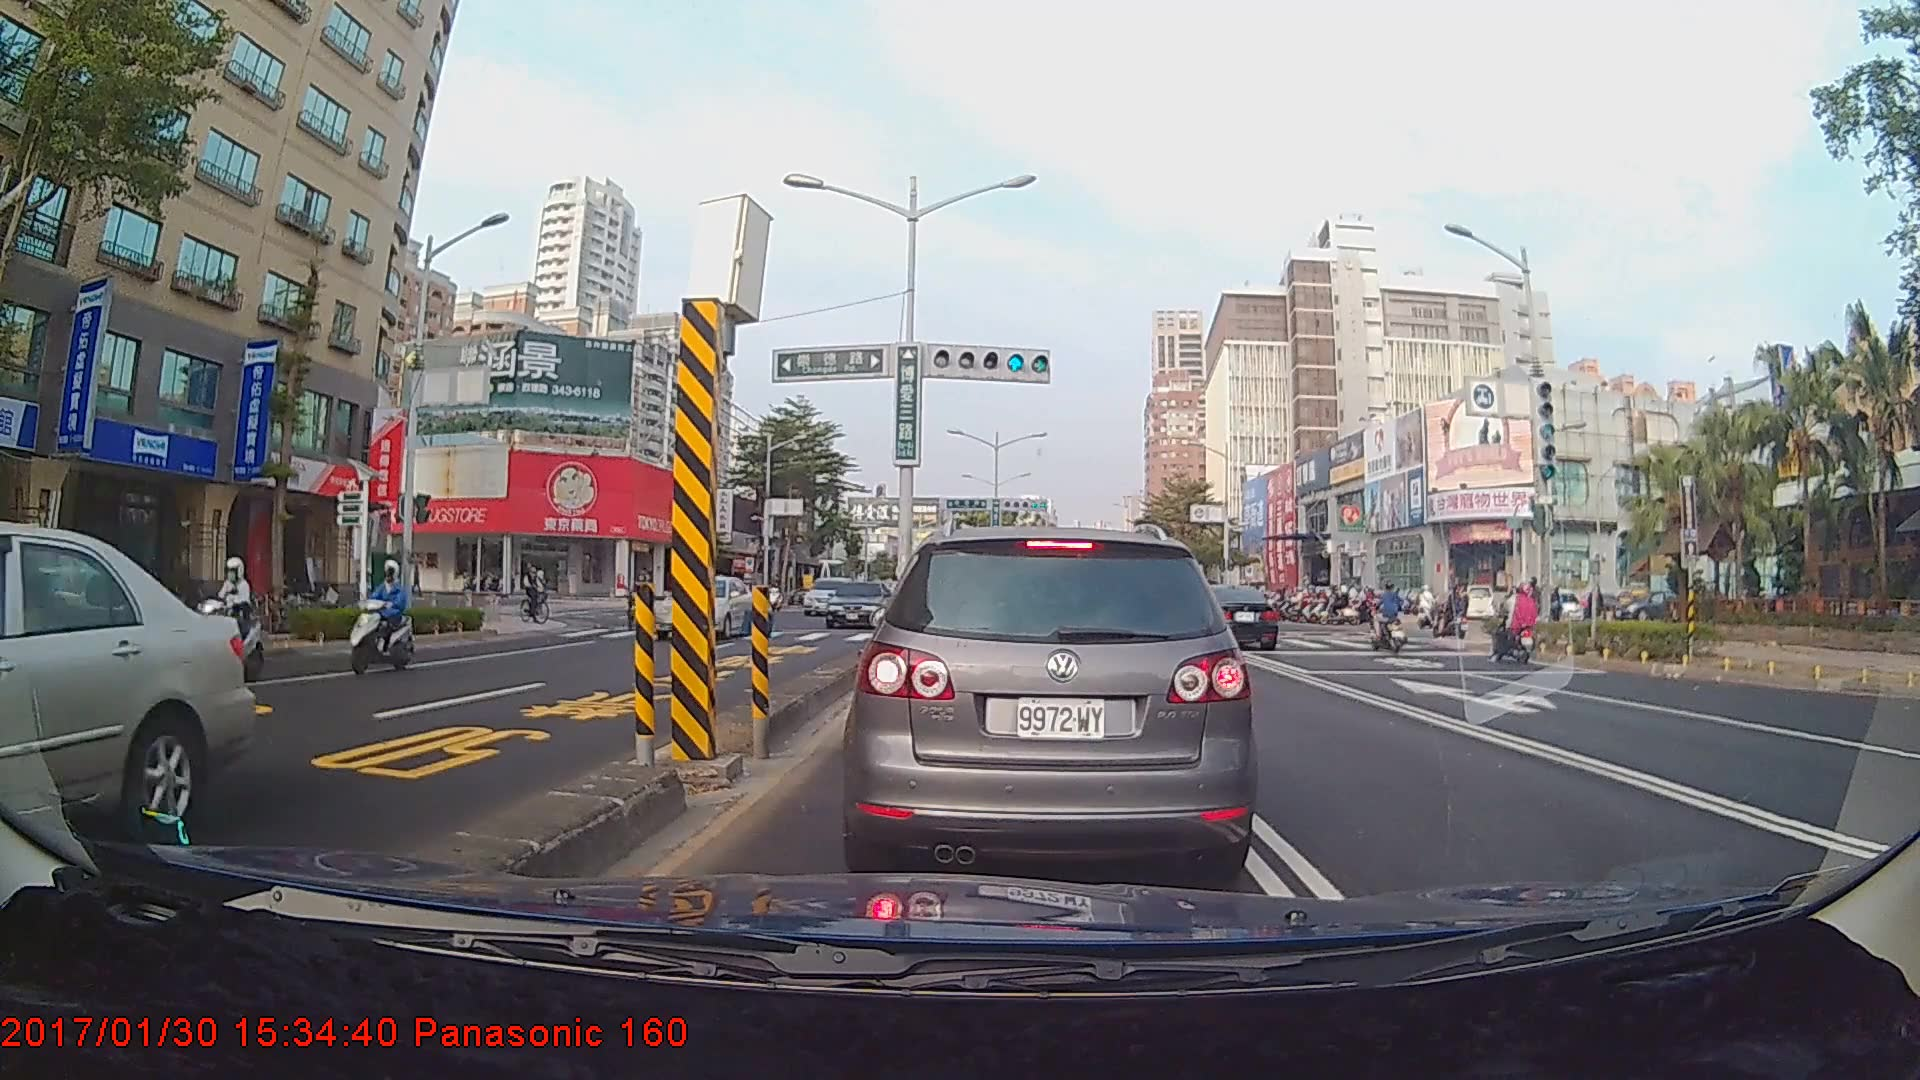rider: (340, 554, 425, 676), (1485, 582, 1548, 668), (1367, 580, 1420, 656), (518, 559, 561, 629), (1436, 582, 1473, 646)
vehicle: (855, 521, 1247, 881), (0, 522, 254, 893), (1178, 582, 1279, 652), (651, 574, 754, 640), (823, 577, 896, 629), (803, 576, 858, 617)
